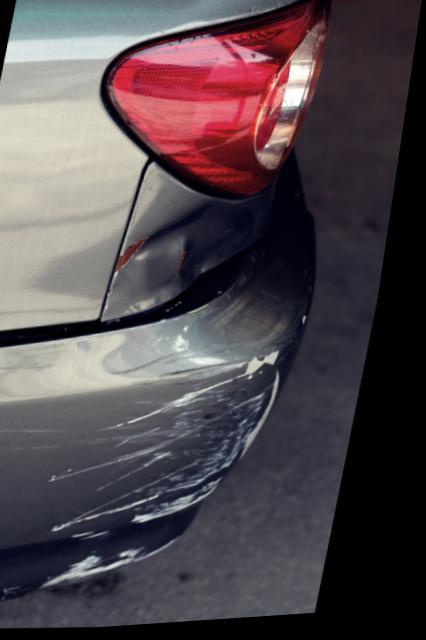dent: (116, 199, 274, 320)
scratch: (0, 341, 296, 590)
